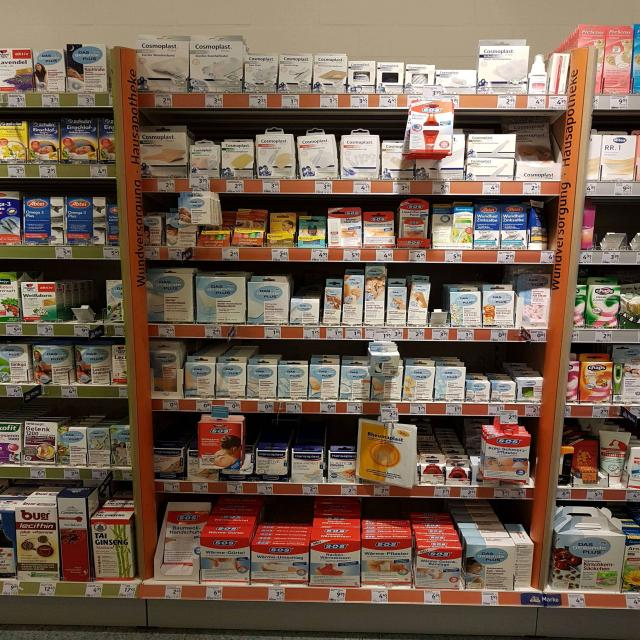empty: (424, 279, 457, 338)
